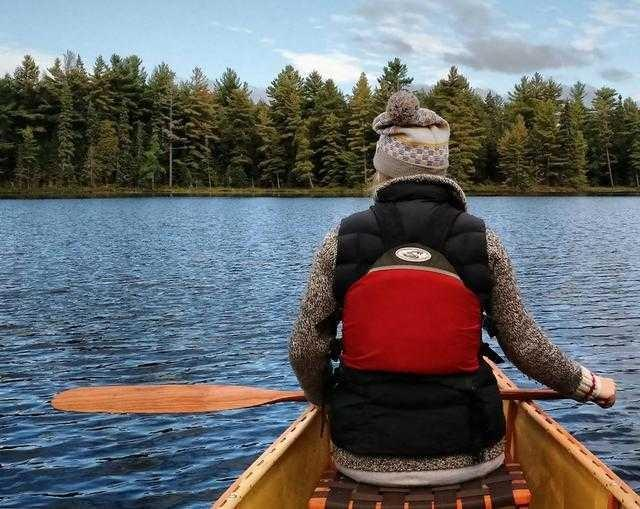kayak: (51, 350, 637, 506)
